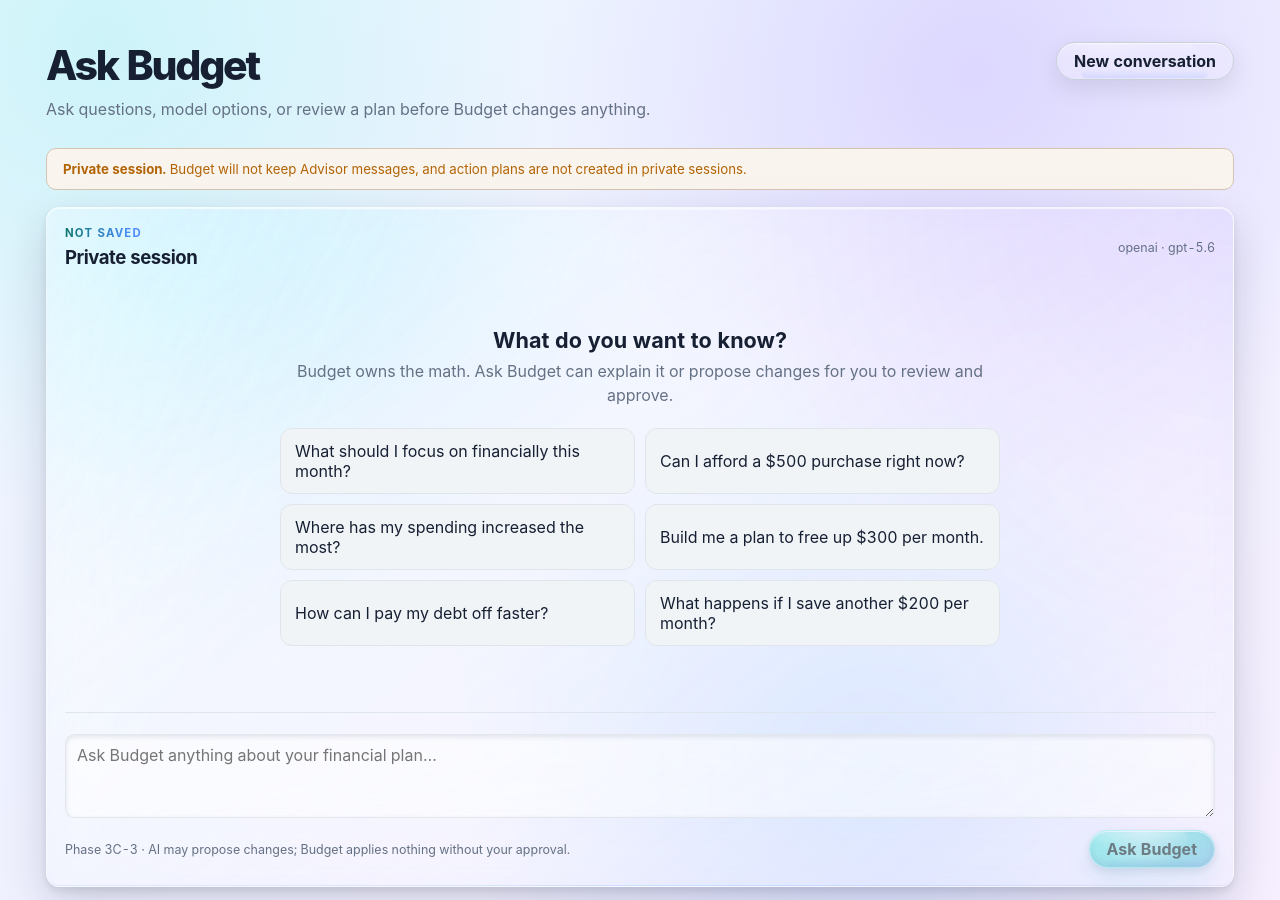
it: AdvisorPage › keeps a private answer on screen without loading conversation history
Expected: the heading "Private session" is shown, left=65, top=246, right=197, bottom=268
Type "What should I do?" into the text box labelled "Ask Budget" at (640, 776), box left=65, top=734, right=1215, bottom=818
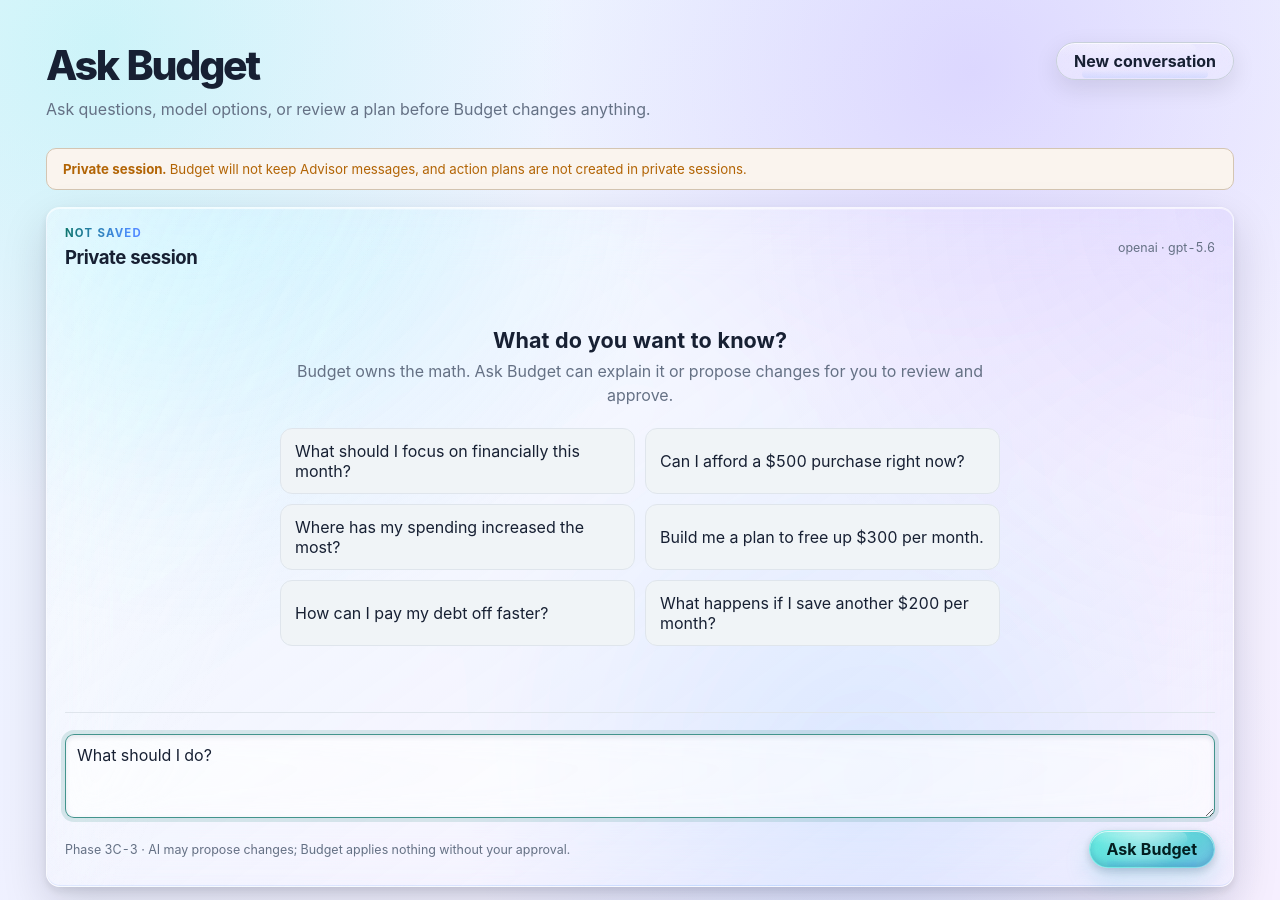
Click the button "Ask Budget" at (1152, 849), box left=1089, top=830, right=1215, bottom=868
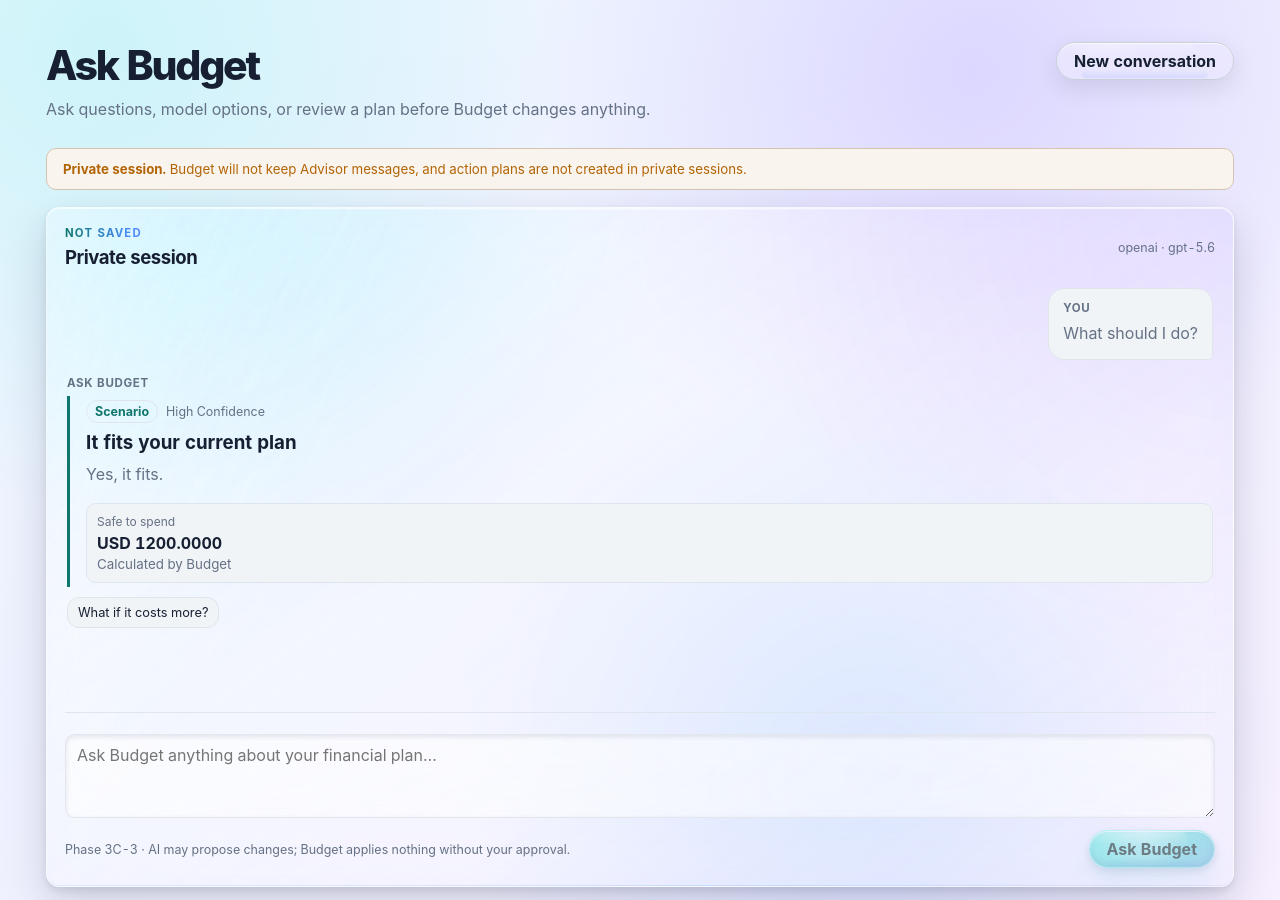
Now the text "Yes, it fits." is shown, box left=86, top=464, right=163, bottom=484
